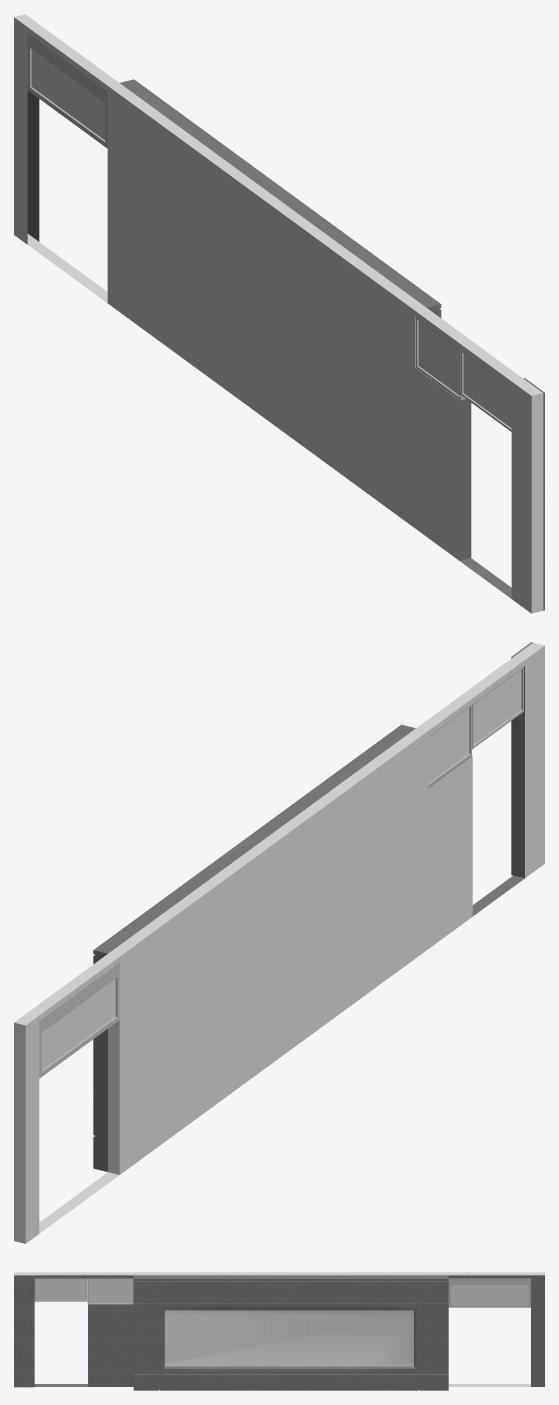
3 views of the same model, one above another, from view 1: azimuth 30°, elevation 25°; view 2: azimuth 150°, elevation 25°; view 3: azimuth 270°, elevation 25° (orthographic). The views are drawn at different scales.
Parts seen in each view (by area): view 1: 앞벽; view 2: 앞벽; view 3: 앞벽.
Boxes of the visible parts, <box> form: 앞벽: <box>14,14,544,613</box>; 앞벽: <box>14,642,544,1243</box>; 앞벽: <box>14,1272,544,1390</box>.
Bounding box in the file's own units: 57.34 × 452 × 1947.
